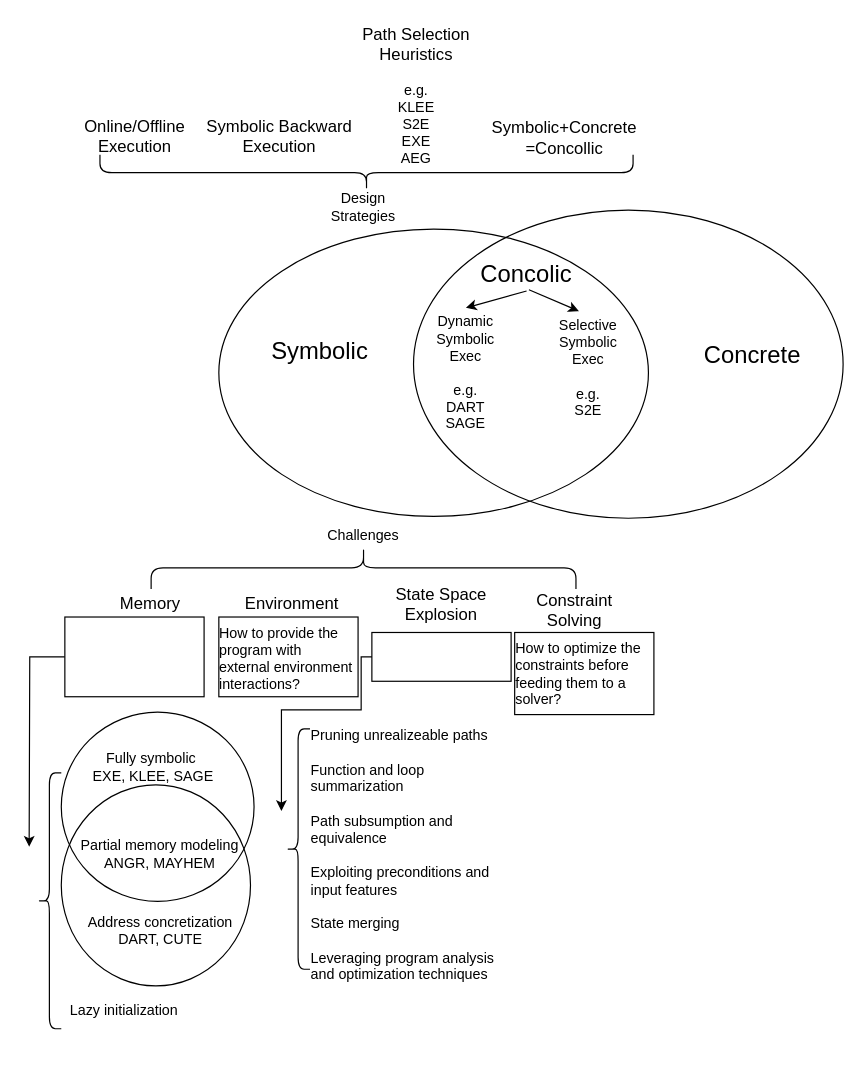
Image size: 864x1073. Some labels were removed from this diagram. Each missing label, with the centre of its shape:
"How to avoid path explosion?" goes at point 441,656.
"How to model memory if the address can be symbolic?" goes at point 134,656.
